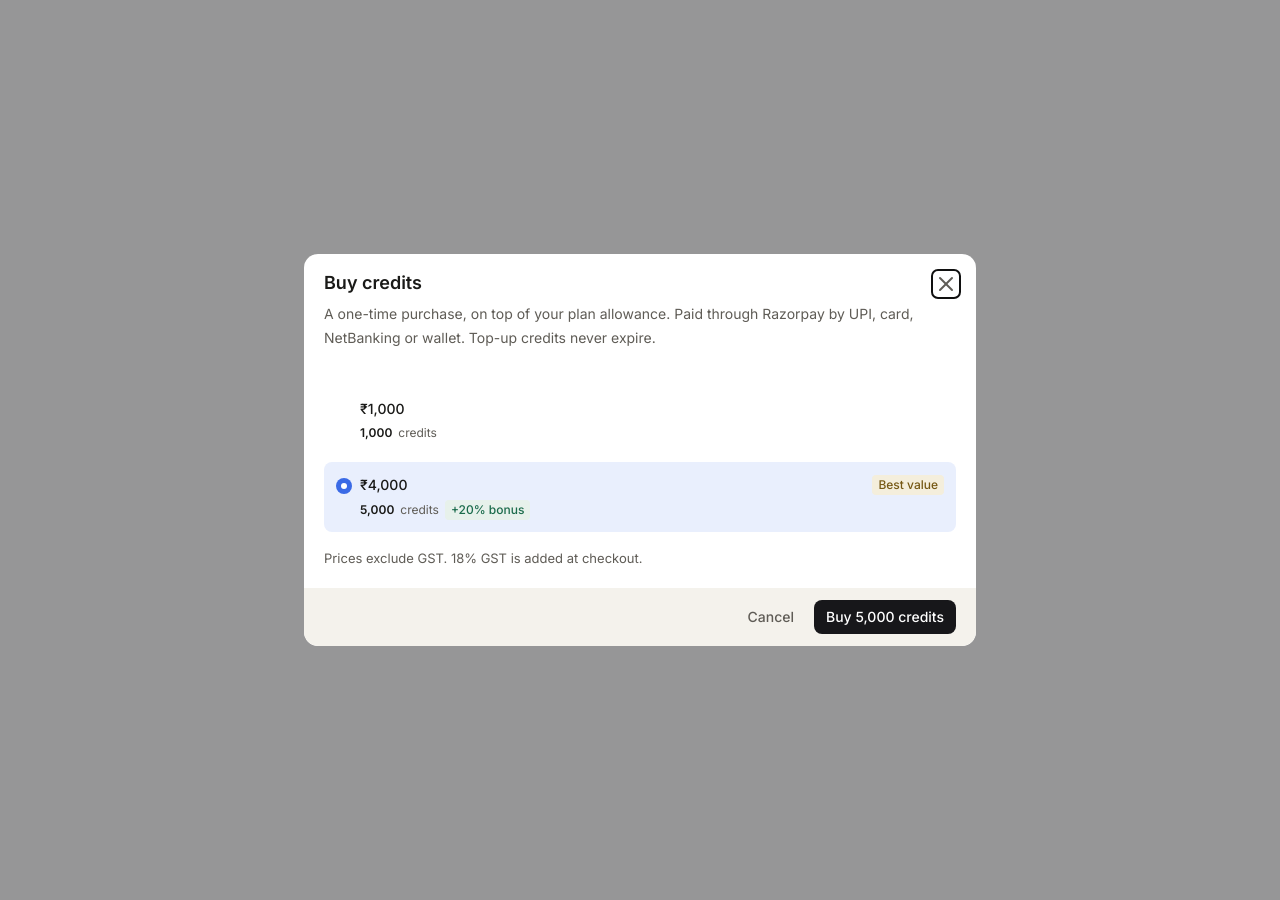
Test: outcomes › never suggests paying again when verification fails after a real charge
Click the radio button labelled "₹1,000" at point(382, 408), box [324, 386, 956, 454]
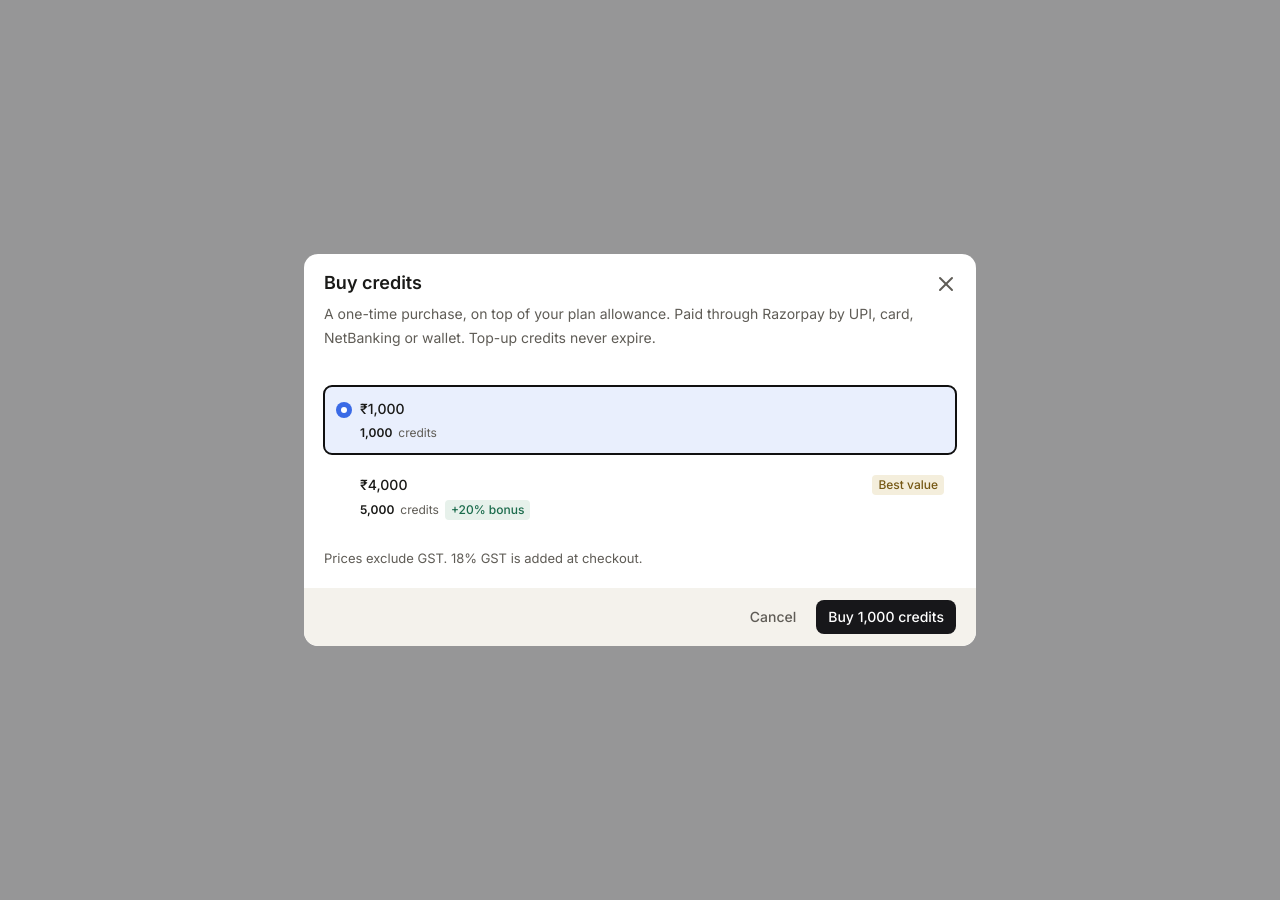
Click the button "Buy 1,000 credits" at point(886, 617), box [816, 600, 956, 634]
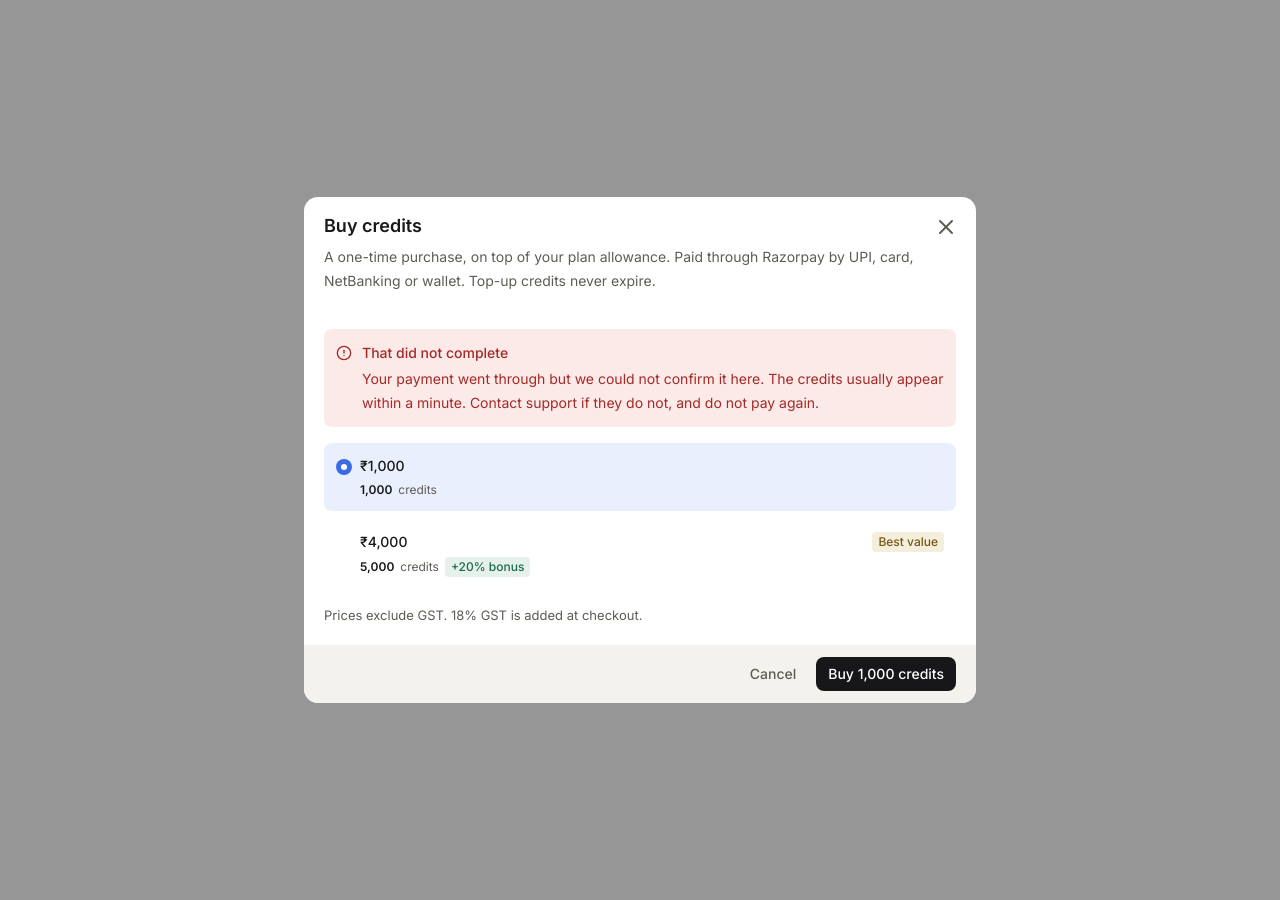
Check: the text "payment went through but we could not confirm it" shows "do not pay again", box [362, 370, 943, 411]
